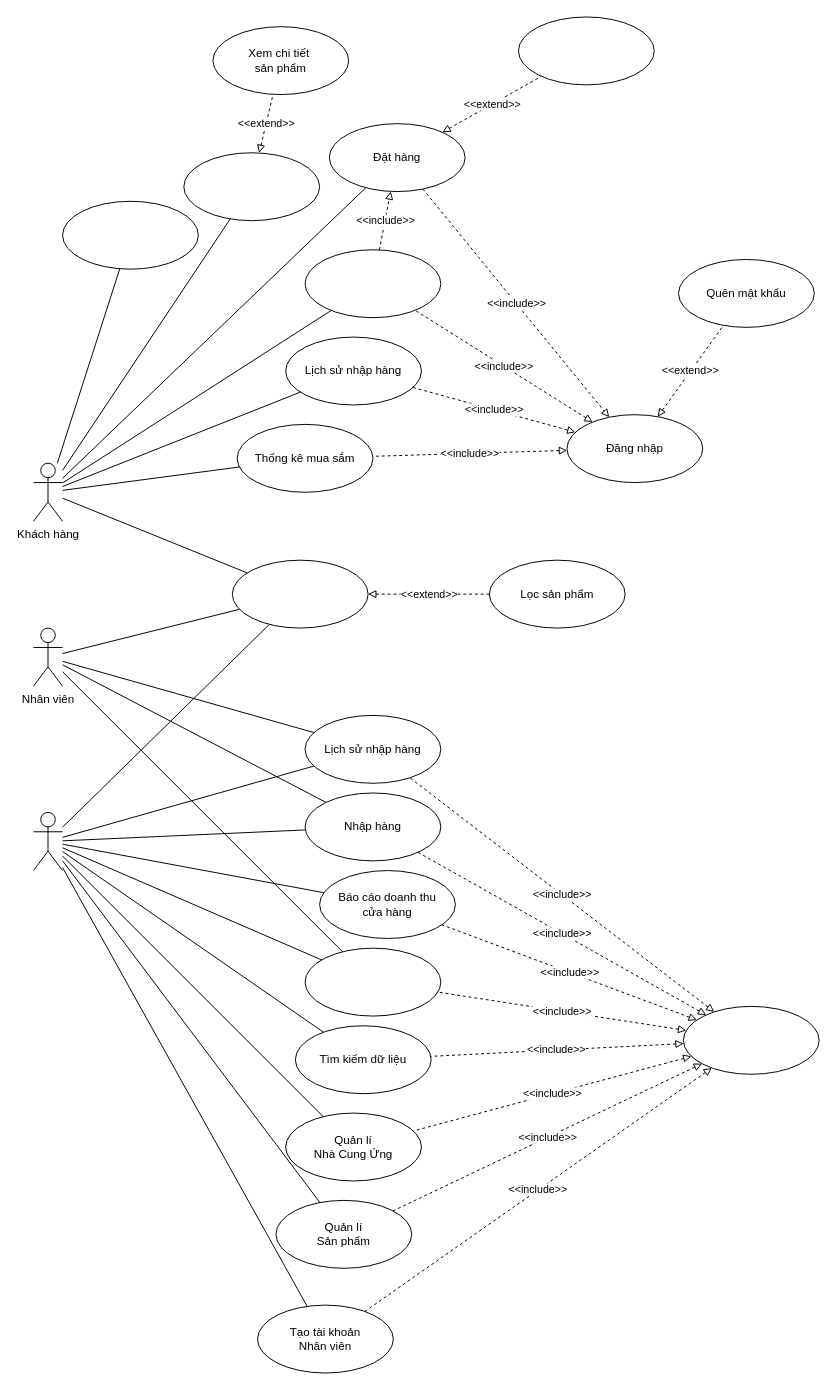
The diagram is 836 pixels wide and 1390 high, and some of its shapes have lost their labels. The shapes that lost their labels are listed below. From the top down, each one's centre as x and y in pixels, then its label:
pixel 585 50: Cập nhật Giỏ hàng
pixel 251 186: Xem danh sách sản phẩm
pixel 130 234: Đăng kí
pixel 372 283: Thanh toán
pixel 299 593: Tìm kiếm sản phẩm
pixel 47 841: Quản trị
pixel 372 981: Quản lí hoá đơn thanh toán
pixel 750 1039: Đăng nhập quản trị
